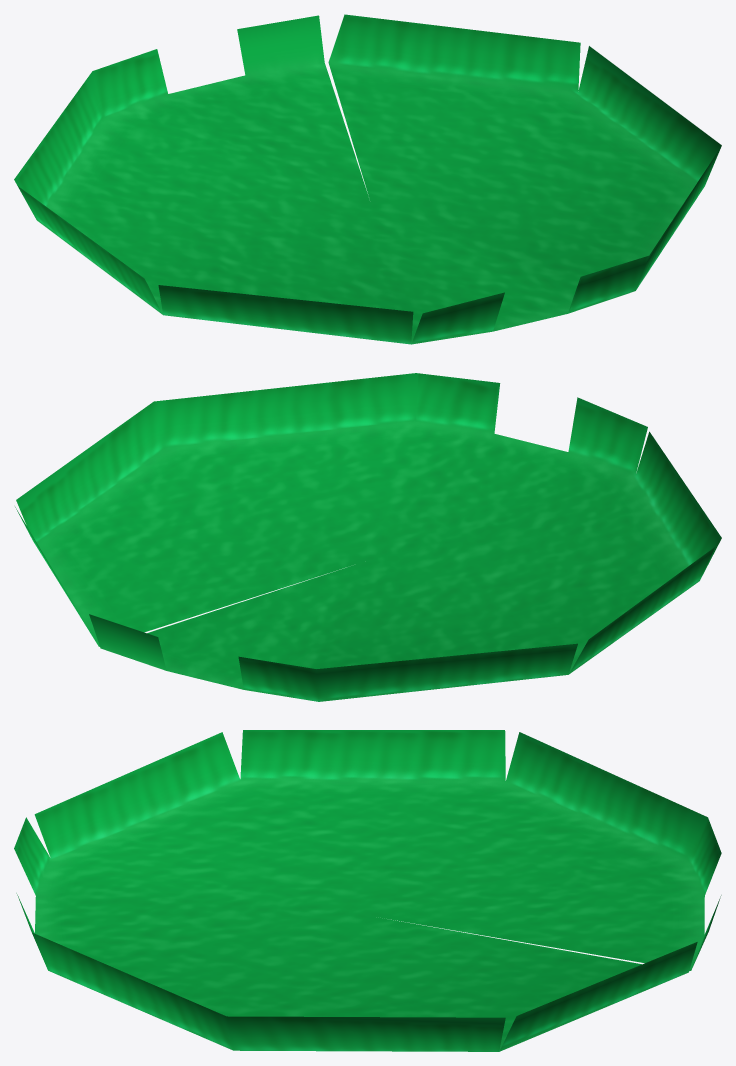
File: lilly_pad.fbx
The picture shows the model from 3 angles, top to bottom: view 1: azimuth 30°, elevation 25°; view 2: azimuth 150°, elevation 25°; view 3: azimuth 270°, elevation 25°; orthographic projection. The views are drawn at different scales.
Visible parts, largest first — view 1: lily_pad; view 2: lily_pad; view 3: lily_pad.
Boxes of the visible parts, bbox=[...] form: lily_pad: bbox=[14, 14, 721, 344]; lily_pad: bbox=[15, 373, 721, 701]; lily_pad: bbox=[14, 730, 721, 1051].
Bounding box in the file's own units: 4.32 × 0.3373 × 4.5.
Materials: 1 (1 with a texture image).
